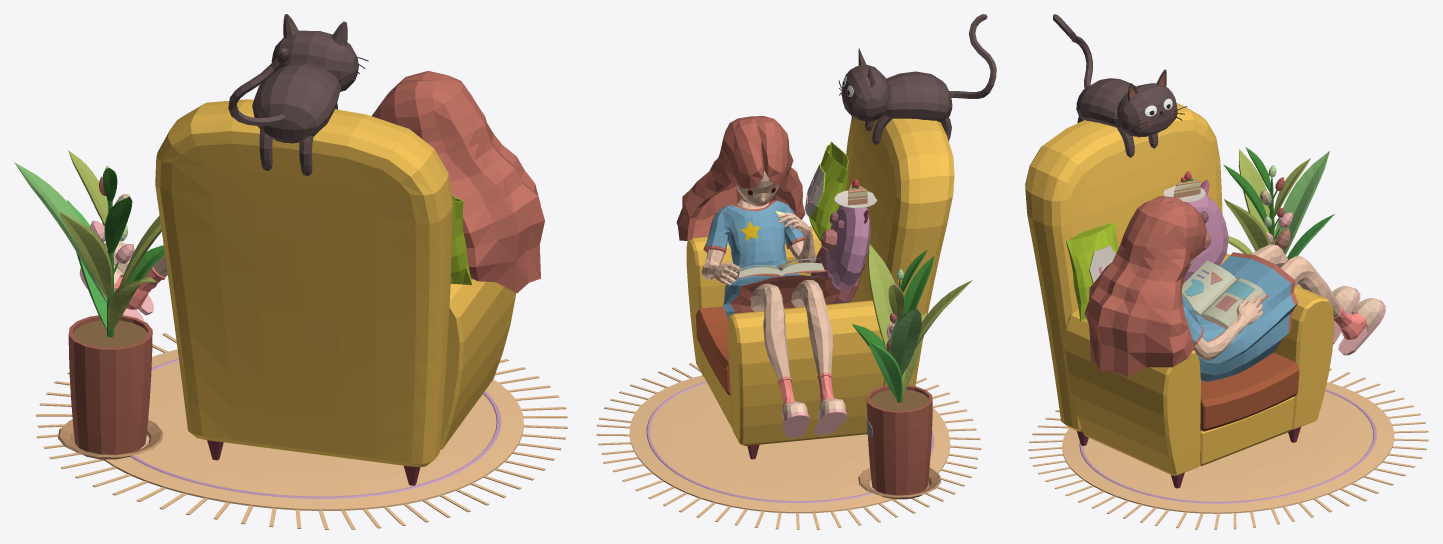
Rendered from ShafaNvhai_chai.FBX.
3 views of the same model, side by side, from view 1: azimuth 30°, elevation 25°; view 2: azimuth 150°, elevation 25°; view 3: azimuth 270°, elevation 25° (orthographic). The views are drawn at different scales.
Visible parts, largest first — view 1: ShafaNvhai193, ShafaNvhai228, ShafaNvhai104, ShafaNvhai222, ShafaNvhai194, ShafaNvhai42, ShafaNvhai129, ShafaNvhai225, ShafaNvhai202, ShafaNvhai227, ShafaNvhai196, ShafaNvhai221 (+11 smaller); view 2: ShafaNvhai228, ShafaNvhai01, ShafaNvhai193, ShafaNvhai104, ShafaNvhai222, ShafaNvhai55, ShafaNvhai42, ShafaNvhai194, ShafaNvhai105, ShafaNvhai32, ShafaNvhai116, ShafaNvhai117 (+23 smaller); view 3: ShafaNvhai193, ShafaNvhai228, ShafaNvhai104, ShafaNvhai194, ShafaNvhai55, ShafaNvhai01, ShafaNvhai188, ShafaNvhai195, ShafaNvhai129, ShafaNvhai152, ShafaNvhai42, ShafaNvhai196 (+21 smaller).
Part boxes in pixels (box(x1,y1,x2,y2)): ShafaNvhai193: box(155, 99, 452, 467); ShafaNvhai228: box(104, 349, 523, 510); ShafaNvhai104: box(371, 71, 544, 293); ShafaNvhai222: box(68, 315, 152, 454); ShafaNvhai194: box(440, 278, 515, 449); ShafaNvhai42: box(252, 63, 341, 143); ShafaNvhai129: box(271, 30, 358, 91); ShafaNvhai225: box(440, 359, 567, 512); ShafaNvhai202: box(60, 212, 112, 298); ShafaNvhai227: box(130, 358, 501, 498); ShafaNvhai196: box(14, 162, 107, 303); ShafaNvhai221: box(73, 320, 147, 347); ShafaNvhai228: box(629, 375, 950, 513); ShafaNvhai01: box(728, 300, 883, 445); ShafaNvhai193: box(846, 117, 954, 386); ShafaNvhai104: box(676, 116, 805, 240); ShafaNvhai222: box(866, 385, 932, 495); ShafaNvhai55: box(704, 200, 824, 320); ShafaNvhai42: box(883, 71, 952, 121); ShafaNvhai194: box(686, 226, 821, 376); ShafaNvhai105: box(701, 171, 815, 285); ShafaNvhai32: box(826, 205, 870, 290); ShafaNvhai116: box(750, 283, 790, 380); ShafaNvhai117: box(791, 279, 832, 375); ShafaNvhai193: box(1025, 103, 1222, 431); ShafaNvhai228: box(1062, 382, 1394, 513); ShafaNvhai104: box(1084, 196, 1206, 377); ShafaNvhai194: box(1065, 308, 1200, 475); ShafaNvhai55: box(1182, 255, 1294, 381); ShafaNvhai01: box(1220, 253, 1334, 429); ShafaNvhai188: box(1200, 352, 1299, 431); ShafaNvhai195: box(1200, 396, 1294, 466); ShafaNvhai129: box(1117, 83, 1176, 137); ShafaNvhai152: box(1066, 222, 1118, 321); ShafaNvhai42: box(1076, 78, 1136, 127); ShafaNvhai196: box(1275, 151, 1329, 254).
Bounding box in the file's own units: 9.67 × 9.81 × 9.44.
